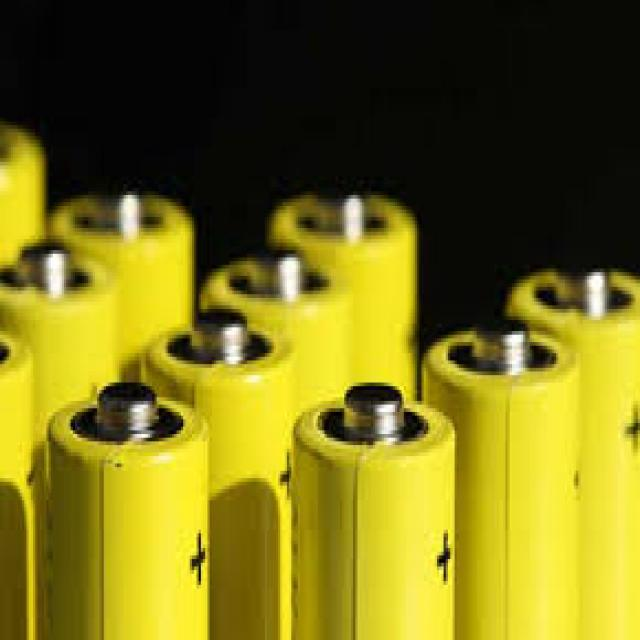hazard: (0, 121, 630, 637)
